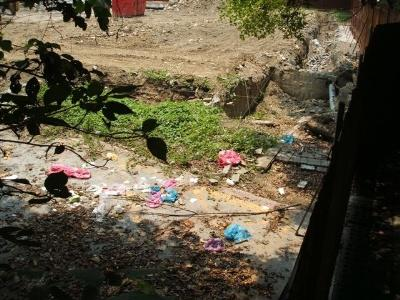plastic_bag: (48, 163, 93, 182), (221, 220, 252, 245), (203, 234, 227, 253), (217, 148, 241, 166), (144, 194, 163, 209), (162, 187, 178, 204), (162, 175, 178, 191), (105, 151, 120, 164), (147, 182, 161, 194), (284, 134, 294, 146)
